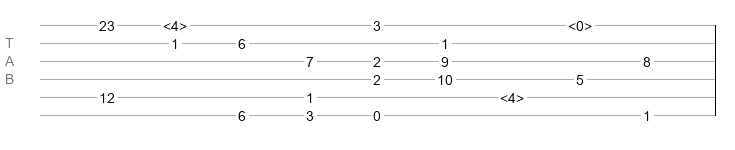0: (373, 108, 381, 118)
1: (171, 36, 179, 46), (306, 90, 314, 100), (441, 36, 449, 46), (643, 108, 651, 118)
10: (437, 72, 453, 82)
12: (99, 90, 115, 100)
2: (373, 54, 381, 64), (373, 72, 381, 82)
23: (99, 18, 115, 28)
3: (306, 108, 314, 118), (373, 18, 381, 28)
5: (576, 72, 584, 82)
6: (238, 36, 246, 46), (238, 108, 246, 118)
7: (306, 54, 314, 64)
8: (643, 54, 651, 64)
9: (441, 54, 449, 64)
harmonic: (163, 18, 187, 28), (500, 90, 524, 100), (568, 18, 592, 28)
